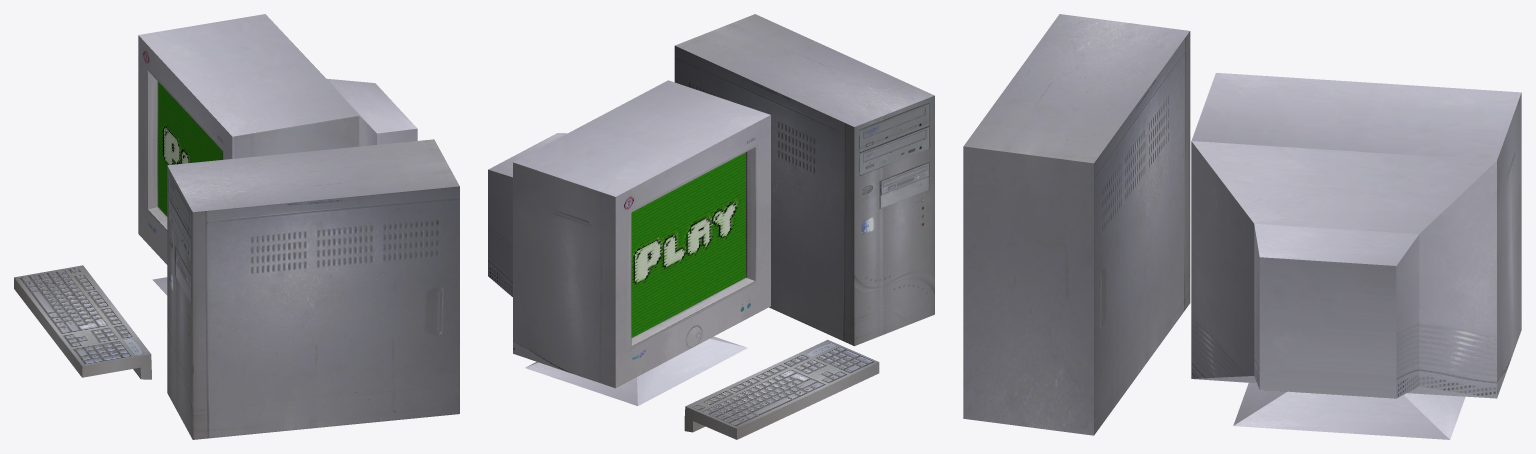
Rendered from computer.FBX.
3 renders of one model, left to right at view 1: azimuth 30°, elevation 25°; view 2: azimuth 150°, elevation 25°; view 3: azimuth 270°, elevation 25°, orthographic. The views are drawn at different scales.
Parts seen in each view (by area): view 1: Box14, Box12, Box13; view 2: Box12, Box14, Box13; view 3: Box12, Box14.
Part boxes in pixels (bbox=[...]): Box14: bbox=[167, 139, 459, 439]; Box12: bbox=[138, 14, 417, 295]; Box13: bbox=[14, 265, 151, 379]; Box12: bbox=[488, 80, 770, 405]; Box14: bbox=[674, 14, 934, 346]; Box13: bbox=[684, 339, 879, 439]; Box12: bbox=[1191, 73, 1521, 439]; Box14: bbox=[963, 14, 1190, 435].
Bounding box in the file's own units: 57.59 × 66.49 × 36.83.
4 materials, 4 textured.
